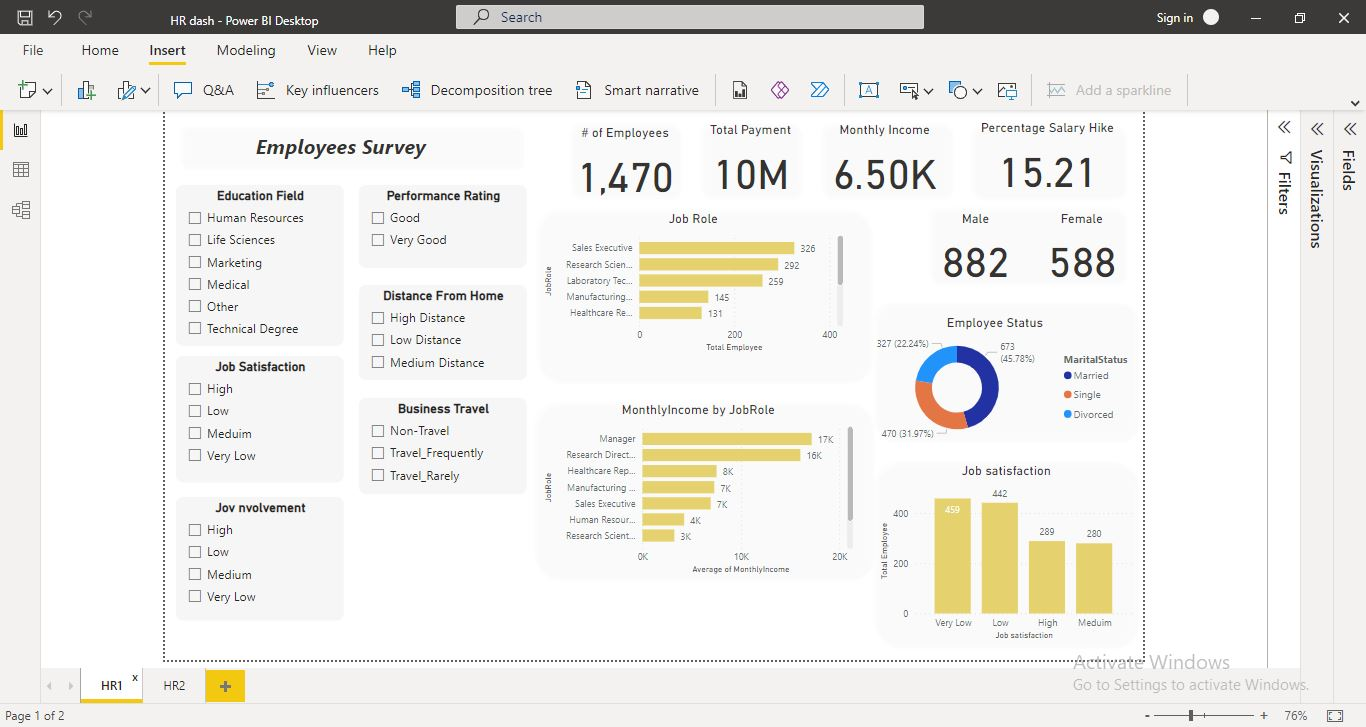

The dashboard page shown, as its layout file describes it:
{"tool":"powerbi","page":{"name":"HR1 ","canvas":[1280,720],"ordinal":0},"visuals":[{"type":"card","title":"# of Employees","fields":{"Values":["HR Analytics Data.Total Employee"]},"box":[527,20.2,149.8,105.1],"z":0},{"type":"card","title":"Total Payment ","fields":{"Values":["Sum(HR Analytics Data.MonthlyIncome)"]},"box":[701.3,15.8,129.6,105.1],"z":1000},{"type":"card","title":"Monthly Income","fields":{"Values":["Avg(HR Analytics Data.MonthlyIncome)"]},"box":[839.5,15.8,205.9,105.1],"z":2000},{"type":"card","title":"Percentage Salary Hike","fields":{"Values":["Avg(HR Analytics Data.PercentSalaryHike)"]},"box":[1061.3,13,187.2,105.1],"z":3000},{"type":"card","title":"Male","fields":{"Values":["HR Analytics Data.Male"]},"box":[1000.8,132.5,119.5,102.2],"z":4000},{"type":"card","title":"Female","fields":{"Values":["HR Analytics Data.Female"]},"box":[1137.6,132.5,125.3,102.2],"z":5000},{"type":"donutChart","title":"Employee Status","fields":{"Category":["HR Analytics Data.MaritalStatus"],"Y":["HR Analytics Data.Total Employee"]},"box":[892.8,267.8,387.4,171.4],"z":6000},{"type":"barChart","title":"MonthlyIncome by JobRole","fields":{"Category":["HR Analytics Data.JobRole"],"Y":["Avg(HR Analytics Data.MonthlyIncome)"]},"box":[491,381.6,414.7,230.4],"z":7000},{"type":"barChart","title":" Job Role","fields":{"Category":["HR Analytics Data.JobRole"],"Y":["HR Analytics Data.Total Employee"]},"box":[491,132.5,401.8,188.6],"z":8000},{"type":"slicer","title":"Education Field","fields":{"Values":["HR Analytics Data.EducationField"]},"box":[13,96.5,221.8,213.1],"z":9000},{"type":"columnChart","title":"Job satisfaction","fields":{"Y":["HR Analytics Data.Total Employee"],"Category":["HR Analytics Data.Job satisfaction"]},"box":[930.2,462.2,341.3,236.2],"z":10000},{"type":"slicer","title":"Business Travel","fields":{"Values":["HR Analytics Data.BusinessTravel"]},"box":[252,375.8,221.8,128.2],"z":11000},{"type":"slicer","title":"Job Satisfaction","fields":{"Values":["HR Analytics Data.Job satisfaction"]},"box":[13,321.1,221.8,168.5],"z":12000},{"type":"slicer","title":"Performance Rating","fields":{"Values":["HR Analytics Data.Performance Rating"]},"box":[252,96.5,221.8,110.9],"z":13000},{"type":"slicer","title":"Distance From Home","fields":{"Values":["HR Analytics Data.Distance From Home"]},"box":[252,227.5,221.8,126.7],"z":14000},{"type":"slicer","title":"Jov nvolvement","fields":{"Values":["HR Analytics Data.Job Involvement"]},"box":[13,505.4,221.8,164.2],"z":15000},{"type":"textbox","box":[113.8,23,241.9,49],"z":16000},{"type":"shape","box":[10.1,11.5,463.7,70.6],"z":17000},{"type":"shape","box":[521.3,7.2,159.8,113.8],"z":18000},{"type":"shape","box":[691.2,7.2,148.3,113.8],"z":19000},{"type":"shape","box":[849.6,7.2,187.2,113.8],"z":20000},{"type":"shape","box":[1045.4,10.1,217.4,110.9],"z":21000},{"type":"shape","box":[990.7,118.1,272.2,116.6],"z":22000},{"type":"shape","box":[476.6,121,453.6,241.9],"z":23000},{"type":"shape","box":[473.8,373,459.4,247.7],"z":24000},{"type":"shape","box":[918.7,241.9,361.4,197.3],"z":25000},{"type":"shape","box":[918.7,450.7,361.4,259.2],"z":26000}]}

Visuals, with their boxes on the page's 1280x720 design canvas (x1, y1, x2, y2). These are canvas units, not pixel positions in the 1366x727 screenshot, which may show the page scaled, cropped or inside an application window:
"# of Employees" card: <bbox>527, 20, 677, 125</bbox>
"Total Payment " card: <bbox>701, 16, 831, 121</bbox>
"Monthly Income" card: <bbox>840, 16, 1045, 121</bbox>
"Percentage Salary Hike" card: <bbox>1061, 13, 1248, 118</bbox>
"Male" card: <bbox>1001, 132, 1120, 235</bbox>
"Female" card: <bbox>1138, 132, 1263, 235</bbox>
"Employee Status" donutChart: <bbox>893, 268, 1280, 439</bbox>
"MonthlyIncome by JobRole" barChart: <bbox>491, 382, 906, 612</bbox>
" Job Role" barChart: <bbox>491, 132, 893, 321</bbox>
"Education Field" slicer: <bbox>13, 96, 235, 310</bbox>
"Job satisfaction" columnChart: <bbox>930, 462, 1272, 698</bbox>
"Business Travel" slicer: <bbox>252, 376, 474, 504</bbox>
"Job Satisfaction" slicer: <bbox>13, 321, 235, 490</bbox>
"Performance Rating" slicer: <bbox>252, 96, 474, 207</bbox>
"Distance From Home" slicer: <bbox>252, 228, 474, 354</bbox>
"Jov nvolvement" slicer: <bbox>13, 505, 235, 670</bbox>
textbox: <bbox>114, 23, 356, 72</bbox>
shape: <bbox>10, 12, 474, 82</bbox>
shape: <bbox>521, 7, 681, 121</bbox>
shape: <bbox>691, 7, 840, 121</bbox>
shape: <bbox>850, 7, 1037, 121</bbox>
shape: <bbox>1045, 10, 1263, 121</bbox>
shape: <bbox>991, 118, 1263, 235</bbox>
shape: <bbox>477, 121, 930, 363</bbox>
shape: <bbox>474, 373, 933, 621</bbox>
shape: <bbox>919, 242, 1280, 439</bbox>
shape: <bbox>919, 451, 1280, 710</bbox>
